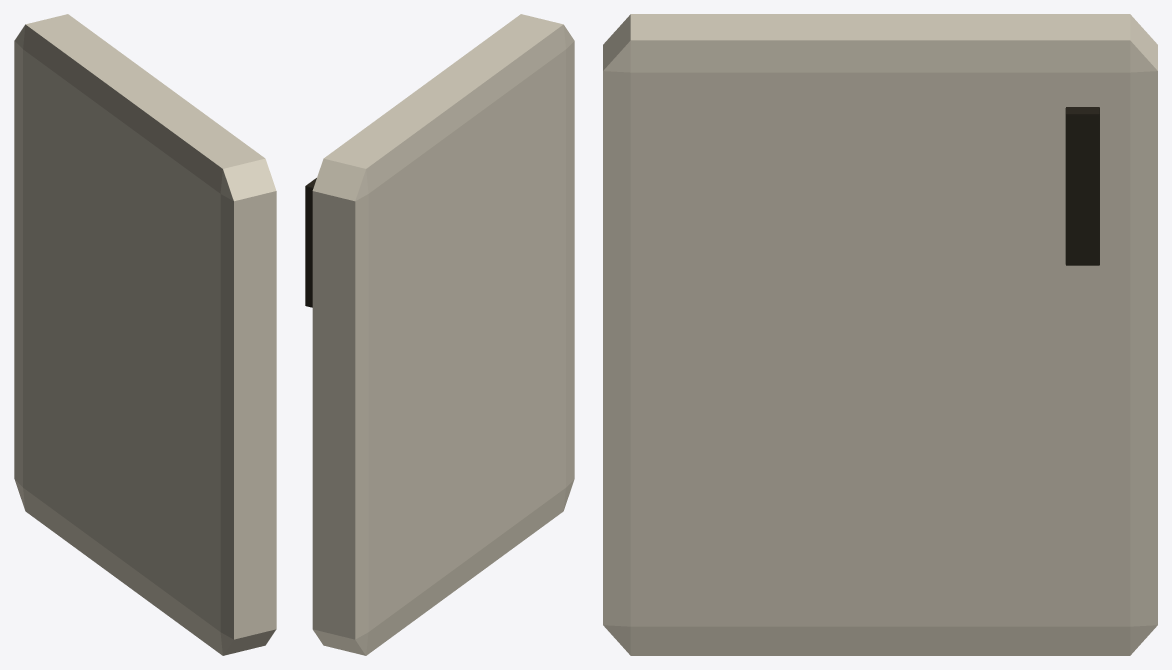
File: FridgeDoorV1.fbx
The picture shows the model from 3 angles, left to right: view 1: azimuth 30°, elevation 25°; view 2: azimuth 150°, elevation 25°; view 3: azimuth 270°, elevation 25°; orthographic projection. The views are drawn at different scales.
Visible parts, largest first — view 1: FridgeDoor; view 2: FridgeDoor; view 3: FridgeDoor.
Part boxes in pixels (x1=…): FridgeDoor: x1=14, y1=14, x2=276, y2=655; FridgeDoor: x1=305, y1=14, x2=574, y2=655; FridgeDoor: x1=603, y1=14, x2=1157, y2=655.
Size of the model in its own units: 497 by 98.35 by 608.
